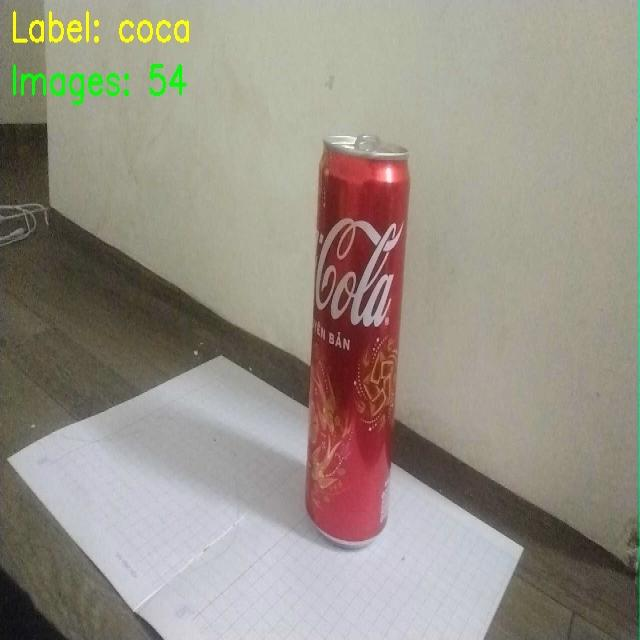Coca: (283, 128, 429, 560)
